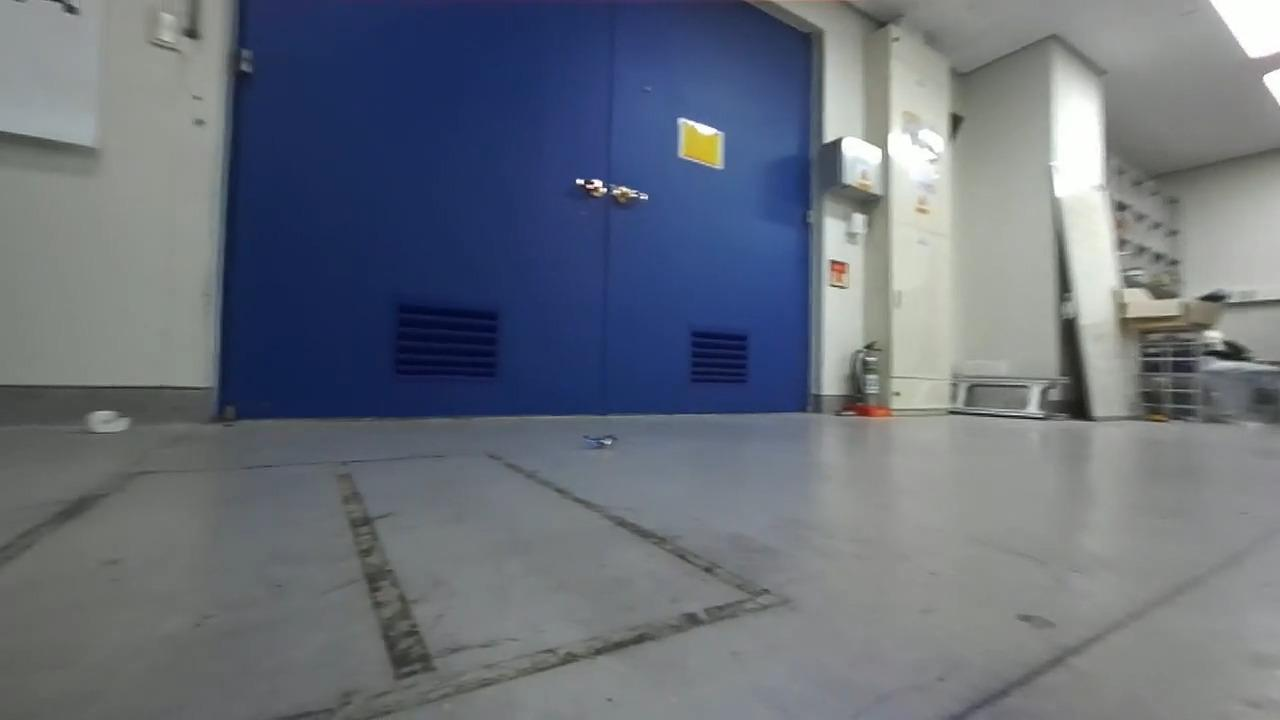crazyflie: (577, 428, 629, 455)
